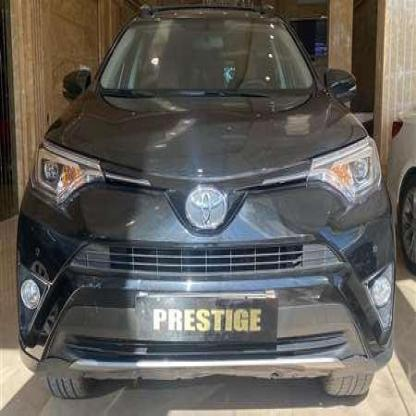Car: (16, 0, 397, 406), (380, 93, 416, 269)
